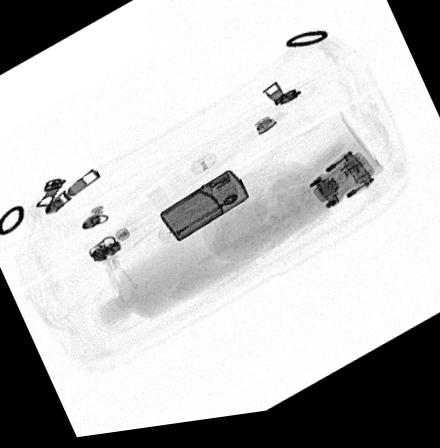Lighter: (159, 175, 249, 247)
